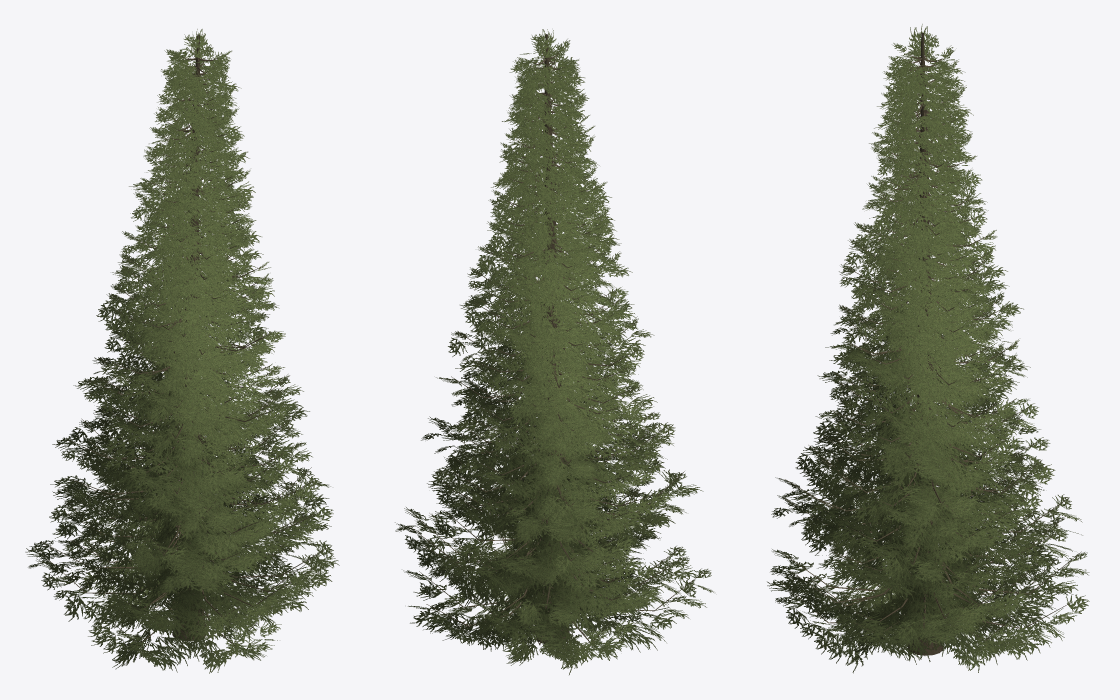
Rendered from SM_Spruce_02.gltf.
3 views of the same model, side by side, from view 1: azimuth 30°, elevation 25°; view 2: azimuth 150°, elevation 25°; view 3: azimuth 270°, elevation 25° (orthographic). The views are drawn at different scales.
Parts seen in each view (by area): view 1: SM_Spruce_02; view 2: SM_Spruce_02; view 3: SM_Spruce_02.
Boxes of the visible parts, x1,y1,x2,y2 form: SM_Spruce_02: [25, 29, 339, 673]; SM_Spruce_02: [395, 29, 713, 674]; SM_Spruce_02: [767, 24, 1089, 673].
Bounding box in the file's own units: 7.91 × 16.49 × 8.08.
2 materials, 2 textured.
